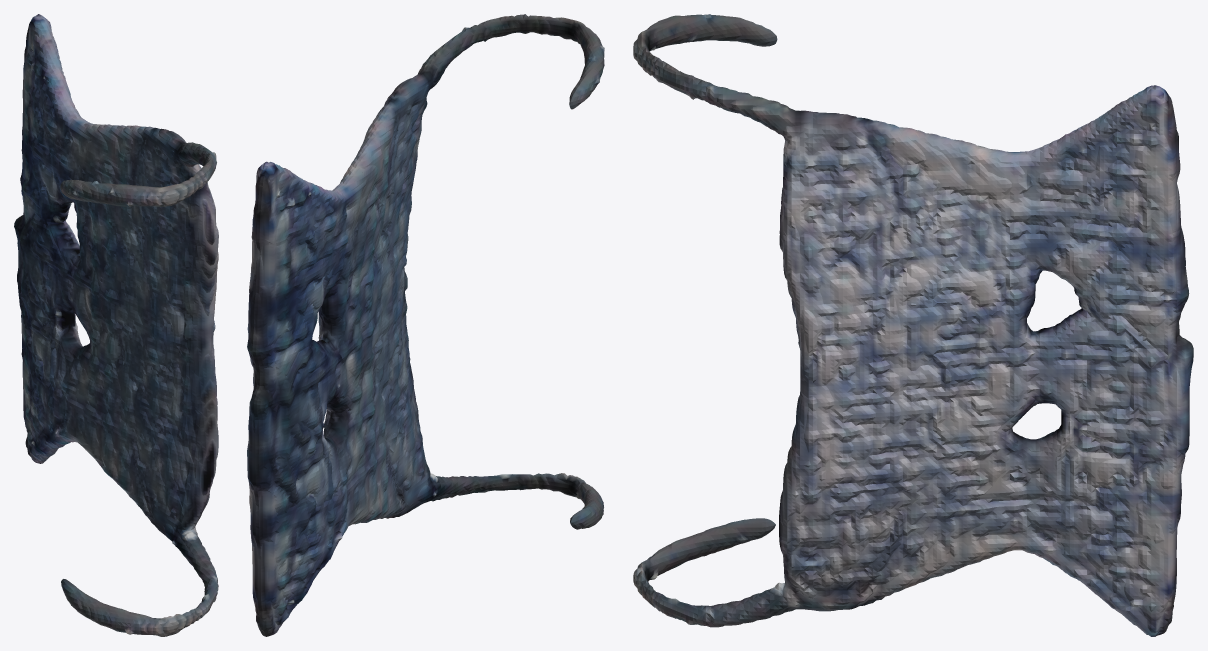
3 views of the same model, side by side, from view 1: azimuth 30°, elevation 25°; view 2: azimuth 150°, elevation 25°; view 3: azimuth 270°, elevation 25° (orthographic). The views are drawn at different scales.
Bounding box in the file's own units: 0.3999 × 0.9772 × 0.893.
